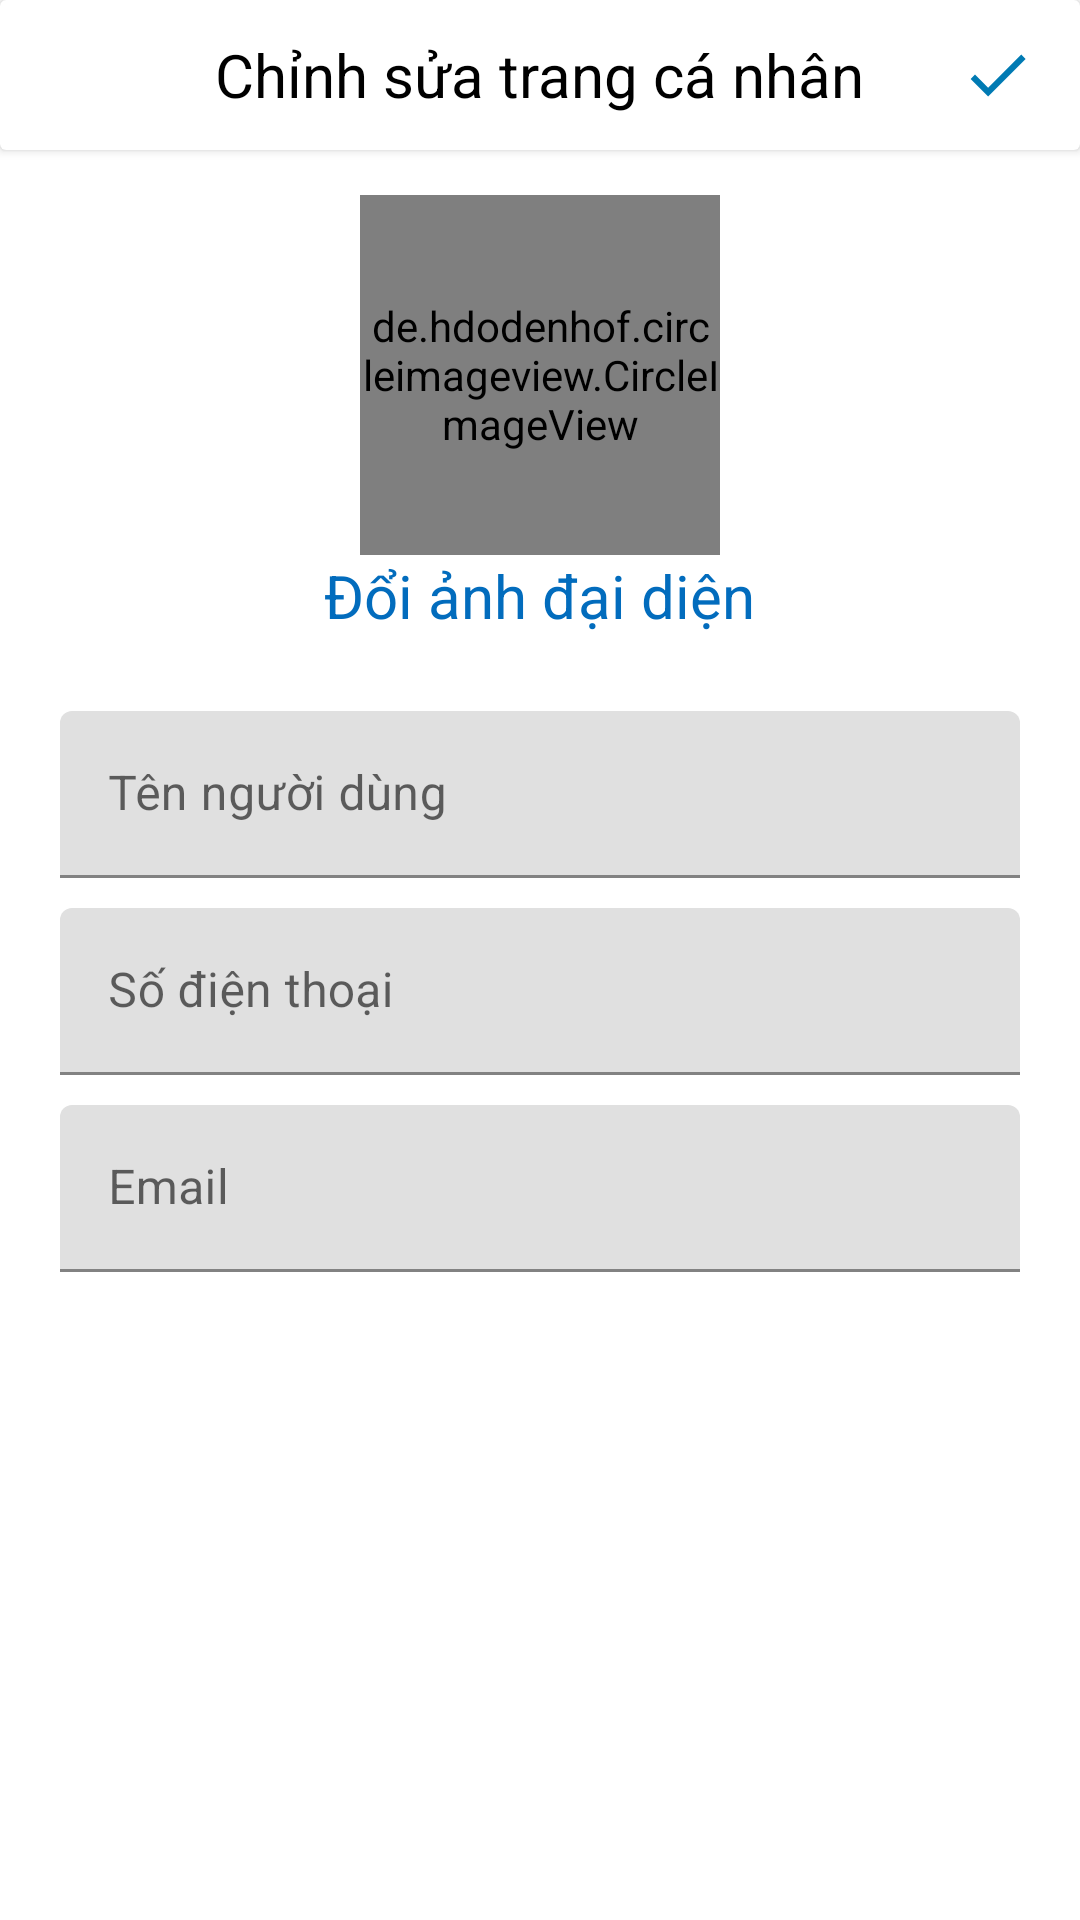

Screen size 1080px×1920px. Icon name, then its center in pixels as point (x, y):
done: point (998, 75)
